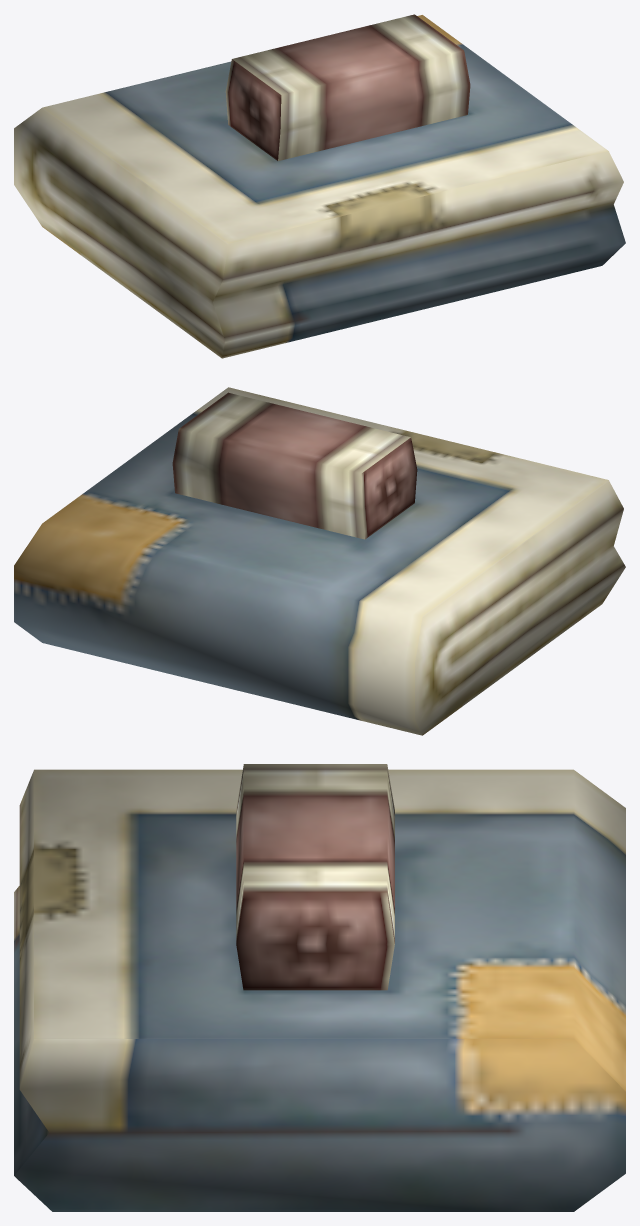
The model's file is a_SWAbedquilt01.glb.
3 renders of one model, top to bottom at view 1: azimuth 30°, elevation 25°; view 2: azimuth 150°, elevation 25°; view 3: azimuth 270°, elevation 25°, orthographic. The views are drawn at different scales.
Visible parts, largest first — view 1: a_SWAbedquilt01; view 2: a_SWAbedquilt01; view 3: a_SWAbedquilt01.
Part boxes in pixels (left/top/right/bottom): a_SWAbedquilt01: left=14, top=14, right=625, bottom=358; a_SWAbedquilt01: left=14, top=387, right=625, bottom=735; a_SWAbedquilt01: left=14, top=764, right=625, bottom=1211.
Size of the model in its own units: 1.01 by 0.4422 by 0.9168.
Materials: 1 (1 with a texture image).
